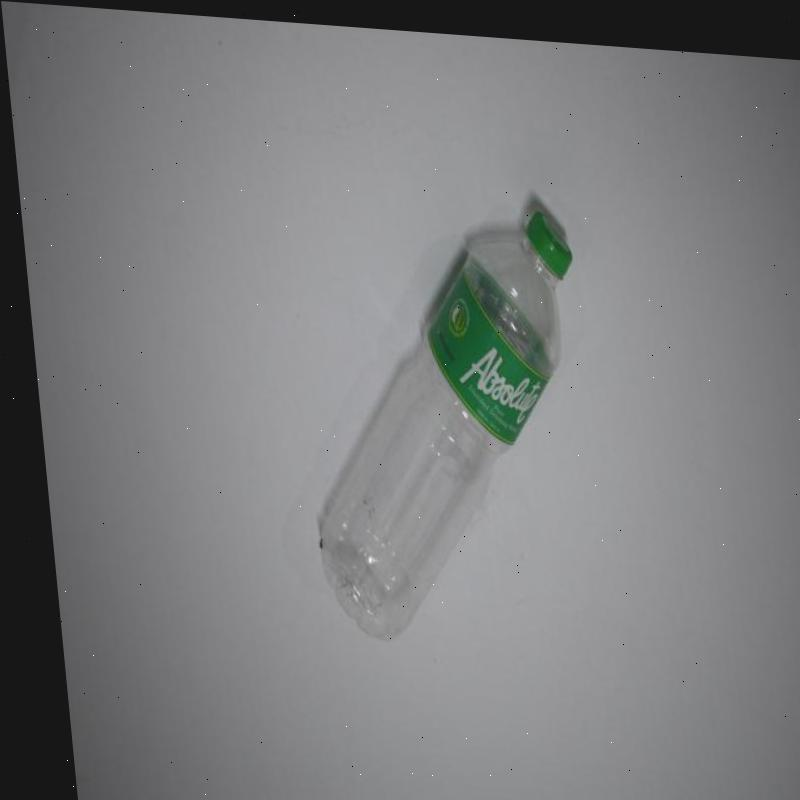botella: (275, 188, 596, 645)
